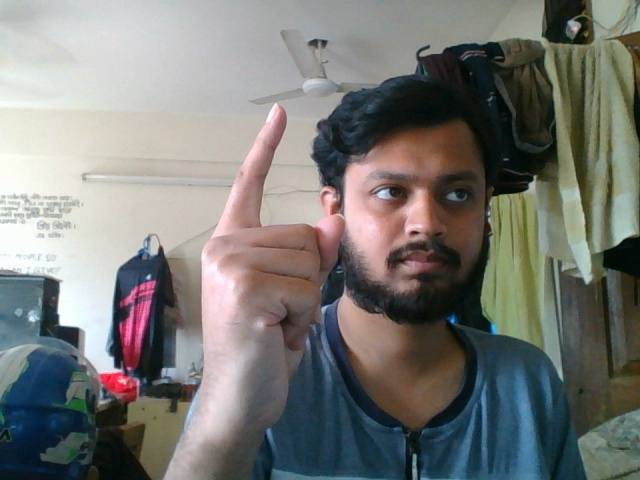u: (192, 98, 349, 456)
